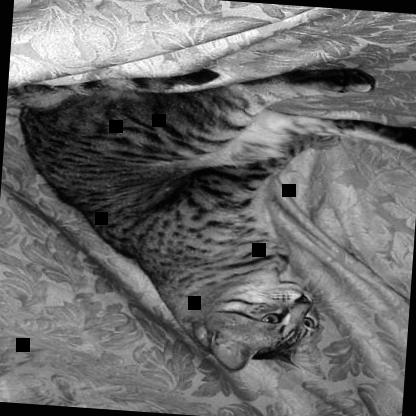cat: (0, 43, 415, 388)
